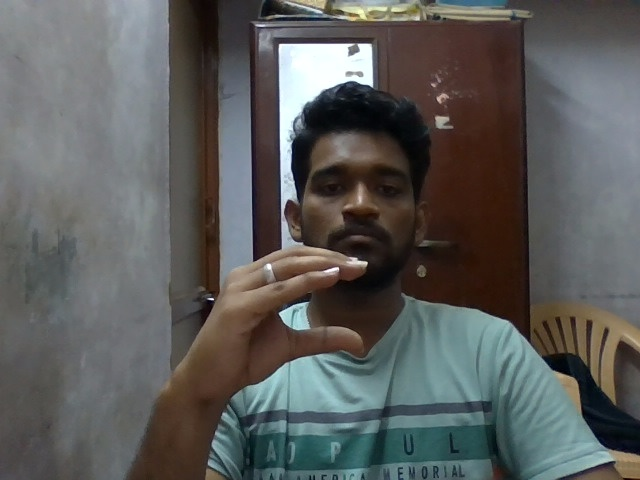C: (167, 241, 378, 404)
